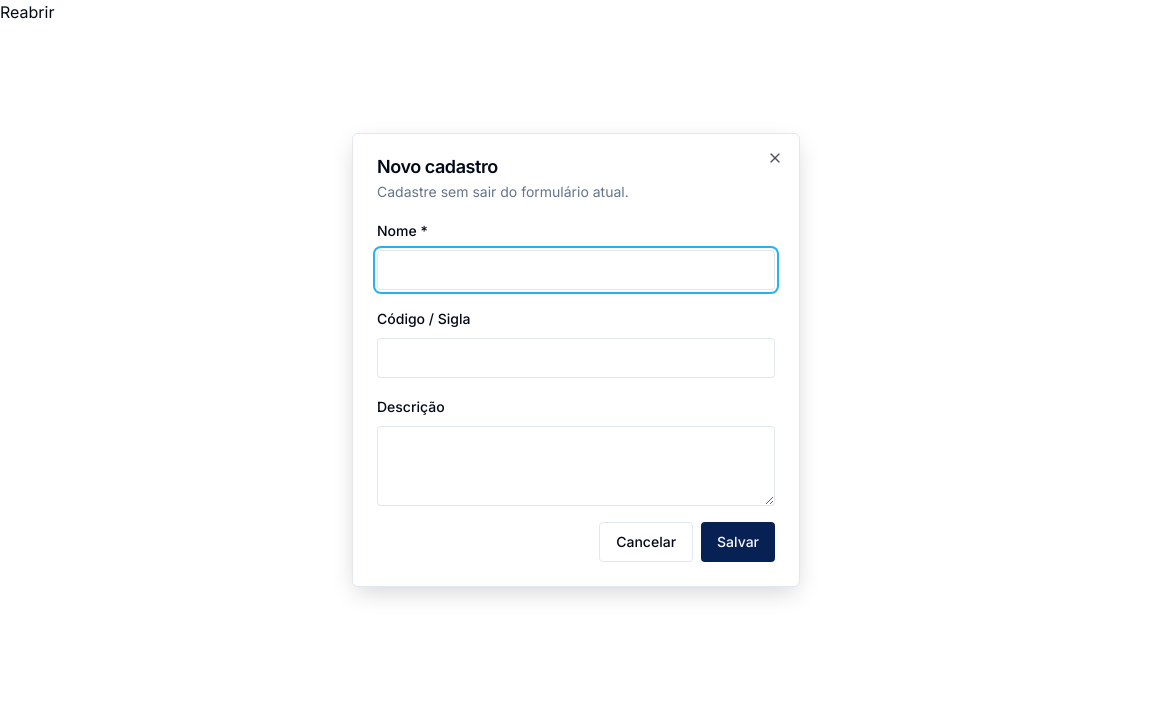
Scenario: QuickAddDialog › valida nome obrigatório
Click the button "Salvar".
click(738, 542)  # box [701,522,775,562]
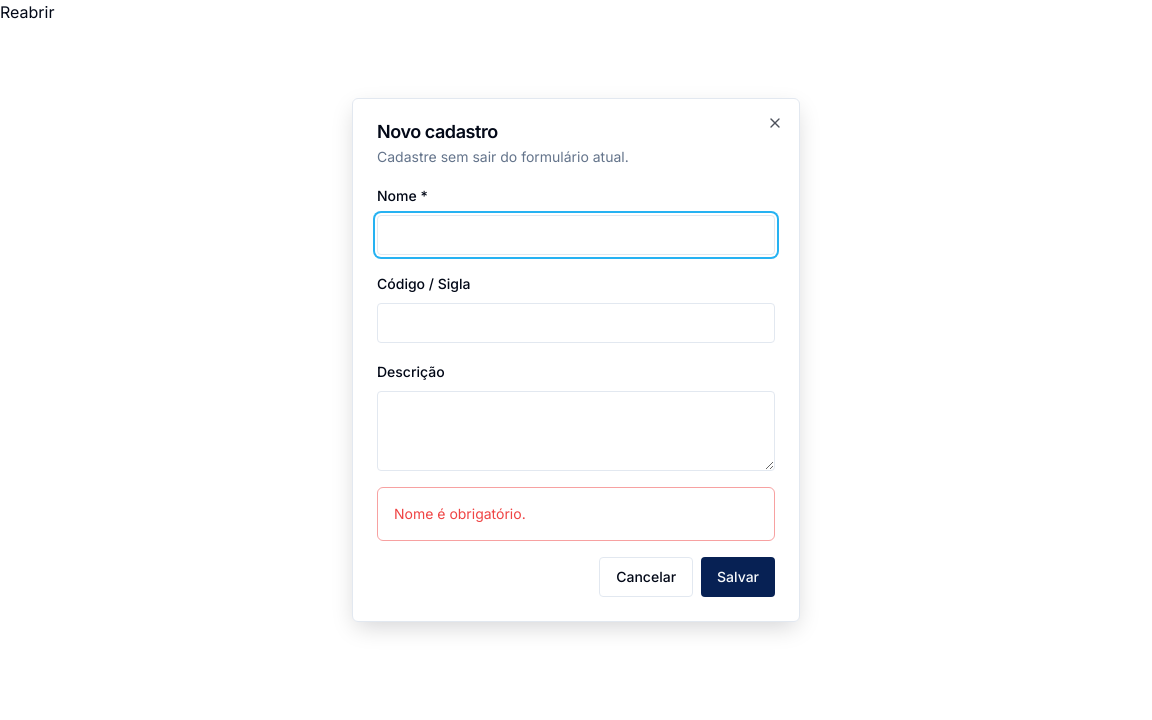
Expected: the message reads "Nome é obrigatório.", [394,505,526,522]
